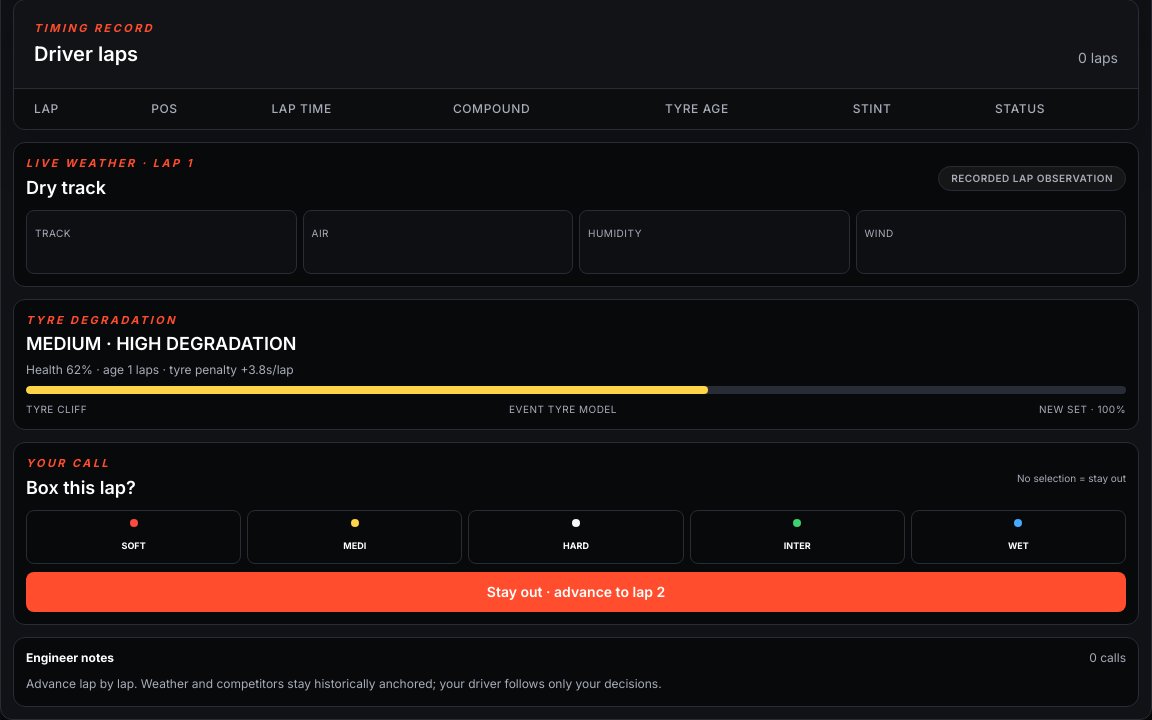
Test: shows lap weather and simulates stay out independently
The width and height of the screenshot is (1152, 720).
(page scrolled)
Expected: the text "Live weather · lap 1" is shown, x1=26 y1=155 x2=194 y2=172
Click the button "Stay out · advance to lap 2".
click(576, 592)  # box x1=26 y1=572 x2=1126 y2=612
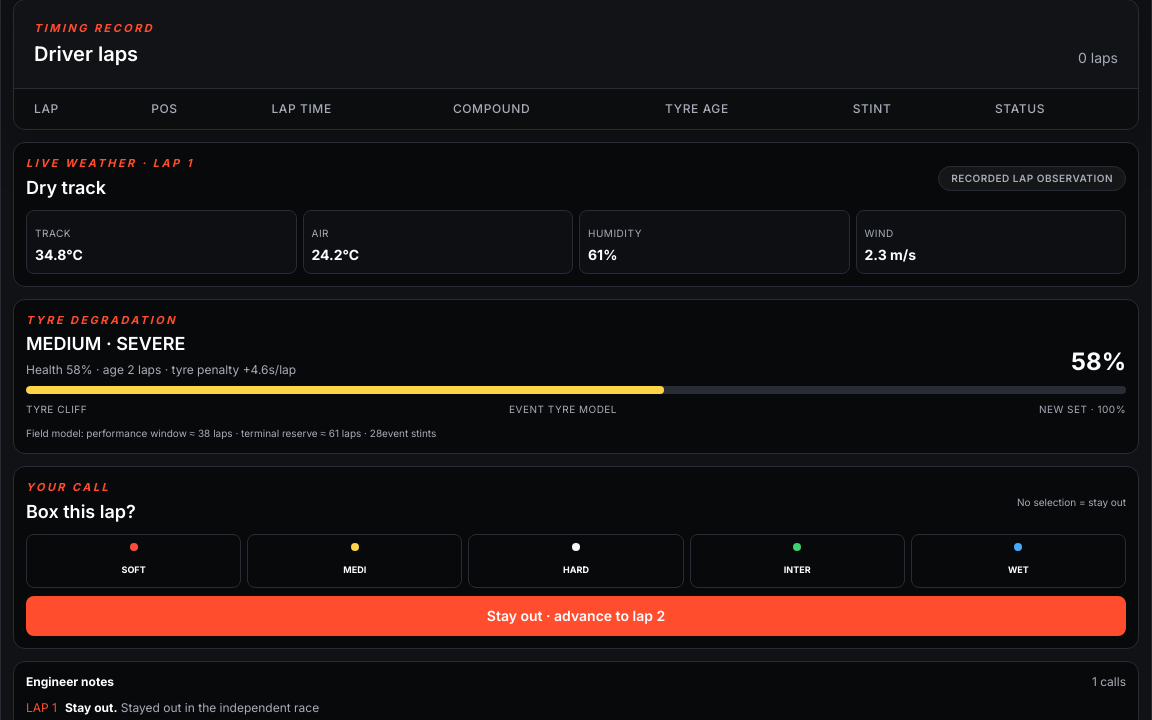
Expected: the text named "Tyre life model: 38 lap performance window, 61 lap terminal reserve, 28 event stints" is shown, x1=26 y1=427 x2=436 y2=439
